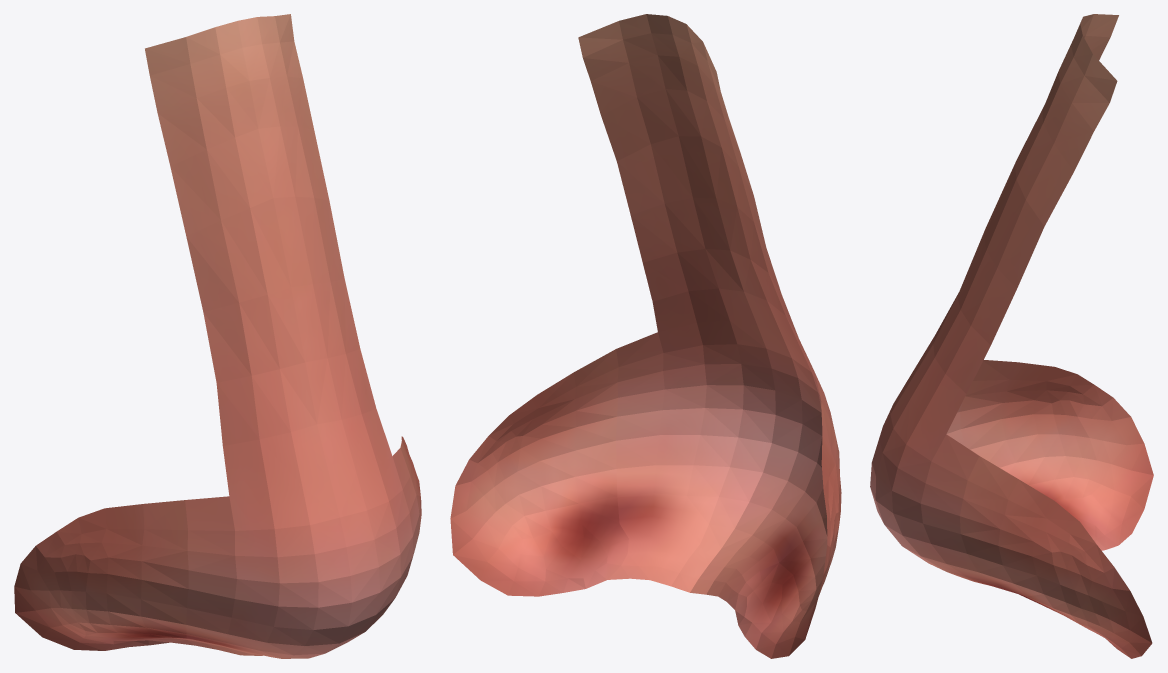
The model's file is euro-fem-nostrils-small.obj.
The picture shows the model from 3 angles, left to right: view 1: azimuth 30°, elevation 25°; view 2: azimuth 150°, elevation 25°; view 3: azimuth 270°, elevation 25°; orthographic projection. The views are drawn at different scales.
Parts seen in each view (by area): view 1: euro-fem-nostrils-sma.001; view 2: euro-fem-nostrils-sma.001; view 3: euro-fem-nostrils-sma.001.
Part boxes in pixels (x1=…): euro-fem-nostrils-sma.001: x1=14, y1=14, x2=421, y2=658; euro-fem-nostrils-sma.001: x1=450, y1=14, x2=841, y2=658; euro-fem-nostrils-sma.001: x1=870, y1=14, x2=1153, y2=658.
Size of the model in its own units: 0.1706 by 0.2626 by 0.1179.
1 material, 1 textured.
